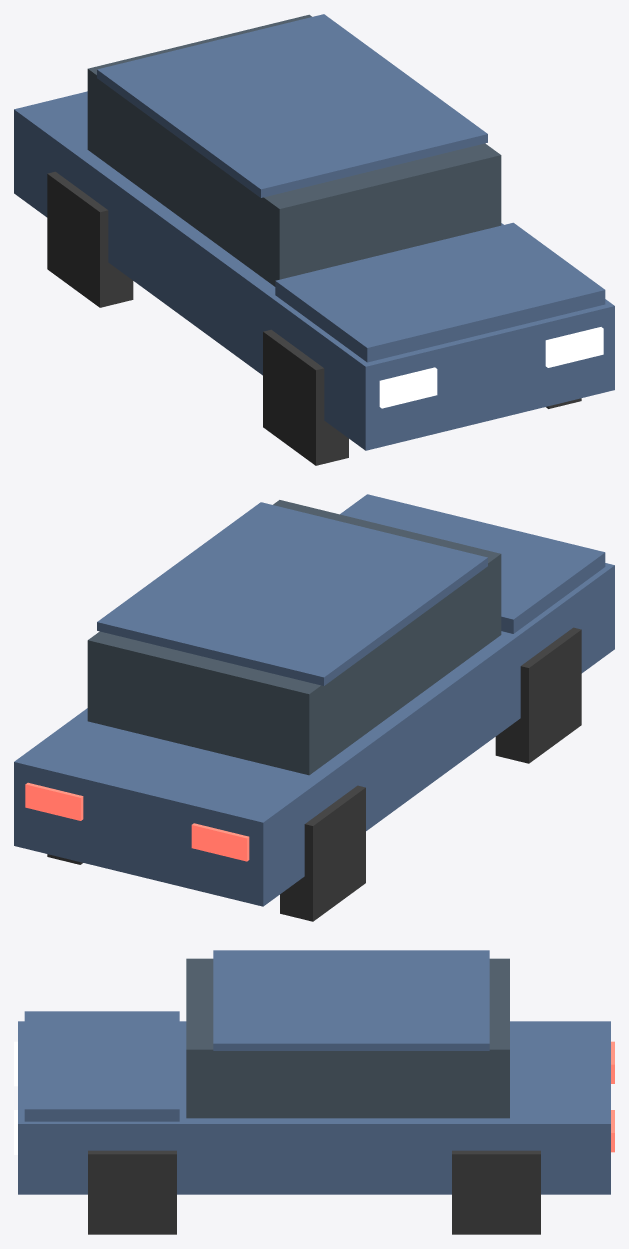
Rendered from car-4.glb.
3 views of the same model, one above another, from view 1: azimuth 30°, elevation 25°; view 2: azimuth 150°, elevation 25°; view 3: azimuth 270°, elevation 25° (orthographic). The views are drawn at different scales.
Size of the model in its own units: 1.92 by 1.5 by 4.46.
